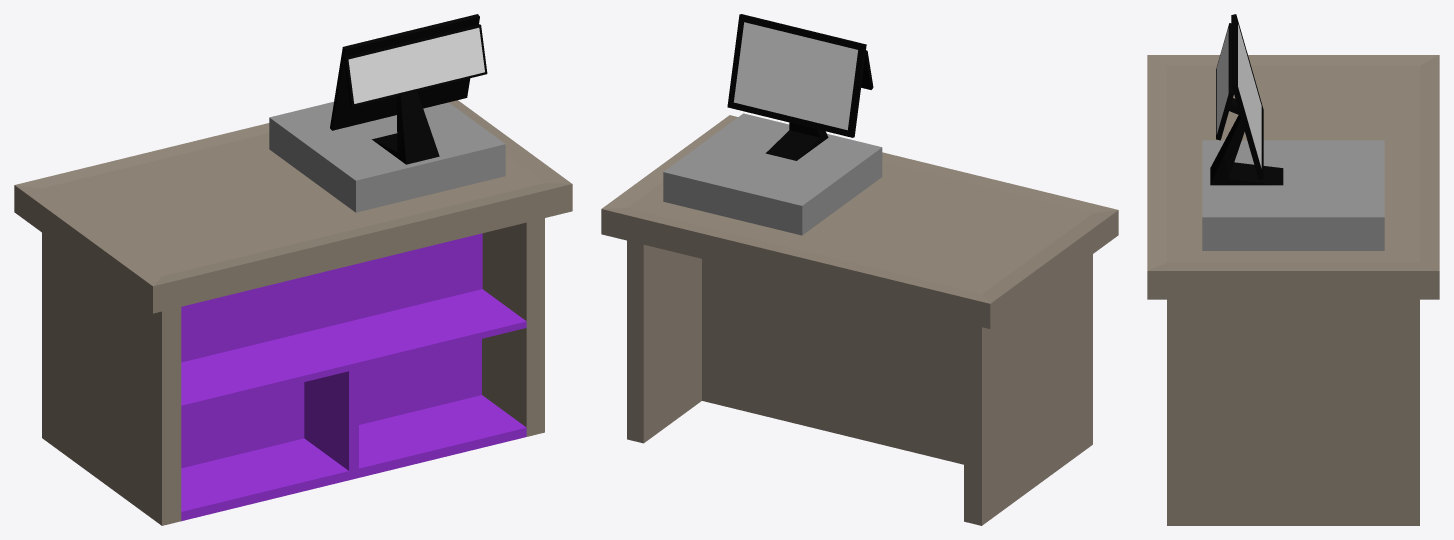
Rendered from Cashier.fbx.
3 renders of one model, left to right at view 1: azimuth 30°, elevation 25°; view 2: azimuth 150°, elevation 25°; view 3: azimuth 270°, elevation 25°, orthographic. The views are drawn at different scales.
Visible parts, largest first — view 1: Cube, Cube.001, Cube.004, Cube.003, Cube.002; view 2: Cube, Cube.001, Cube.003, Cube.002; view 3: Cube, Cube.001, Cube.003, Cube.002, Cube.004.
Boxes of the visible parts, box(x1,y1,x2,y2) form: Cube: box(14, 100, 572, 525); Cube.001: box(269, 101, 505, 212); Cube.004: box(344, 24, 487, 106); Cube.003: box(330, 14, 479, 130); Cube.002: box(372, 91, 439, 164); Cube: box(601, 115, 1118, 525); Cube.001: box(663, 113, 882, 235); Cube.003: box(727, 14, 866, 137); Cube.002: box(765, 122, 828, 160); Cube: box(1147, 55, 1439, 525); Cube.001: box(1202, 140, 1384, 250); Cube.003: box(1231, 14, 1263, 179); Cube.002: box(1210, 98, 1283, 185); Cube.004: box(1216, 23, 1233, 140).
Bounding box in the file's own units: 176 × 161 × 101.
